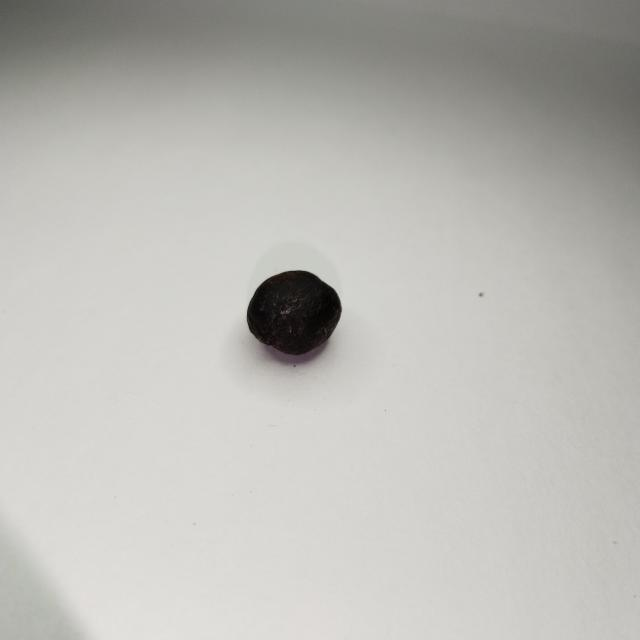Danado: (247, 271, 341, 355)
